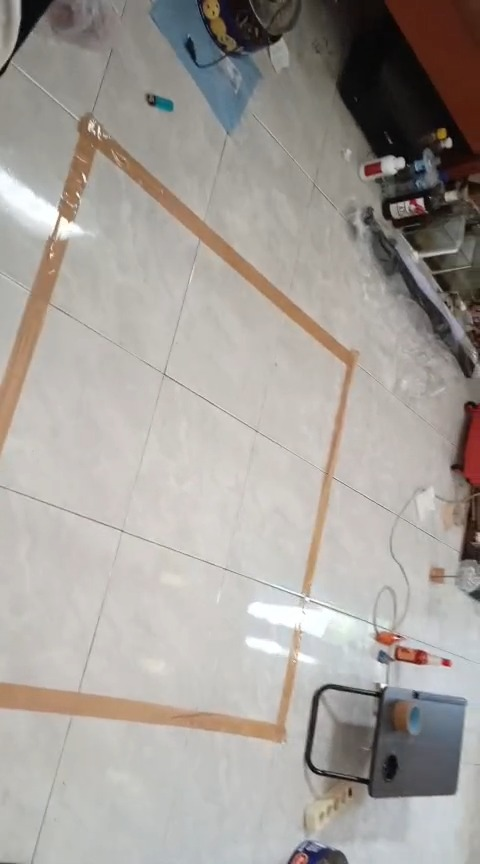floor marking: (0, 114, 357, 593), (2, 625, 300, 742)
